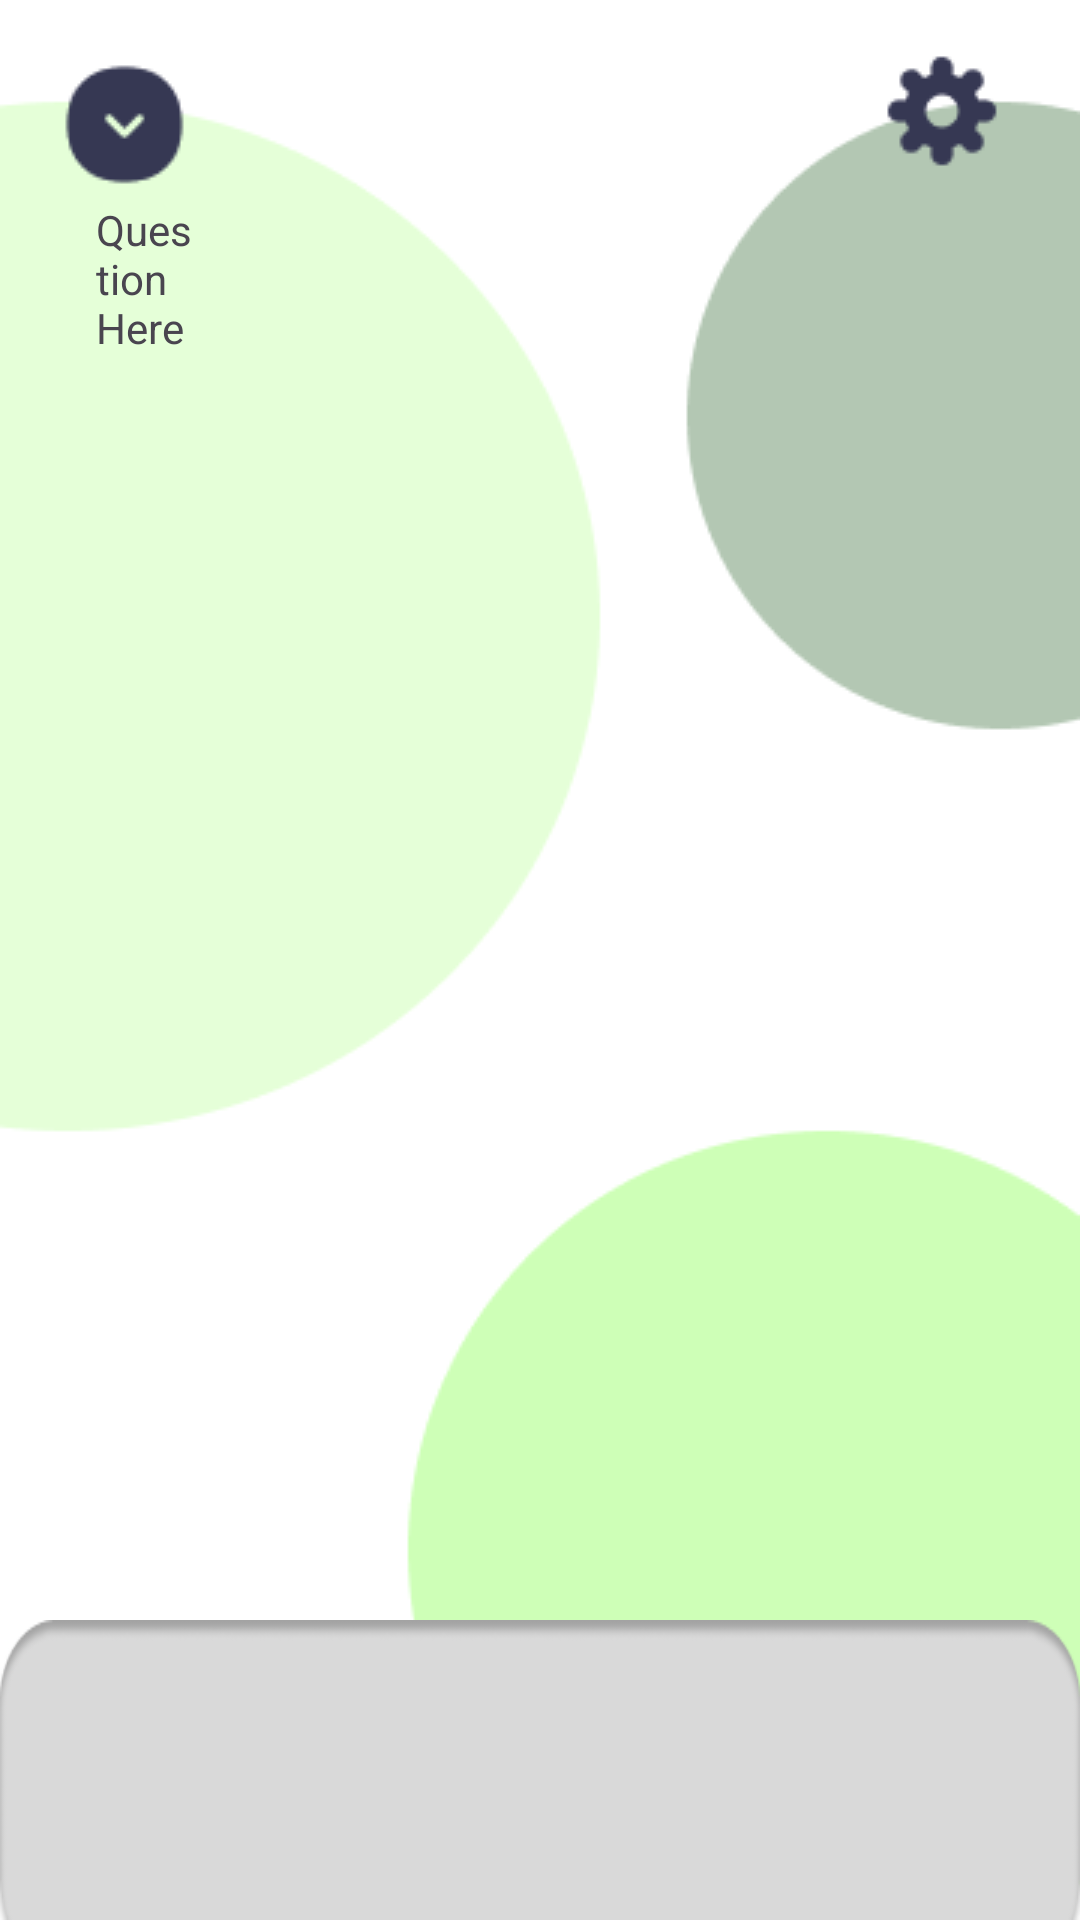

Where to tap for icons on this 1080px×1920px app screen, as point (x, y):
setting: point (955, 124)
